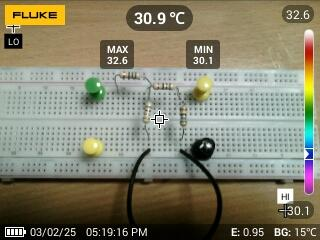resistor: (141, 101, 155, 127), (178, 104, 190, 130), (116, 71, 144, 82), (151, 81, 175, 92)
